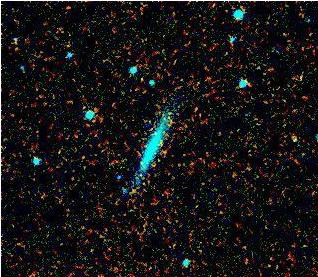star: (131, 107, 161, 137)
